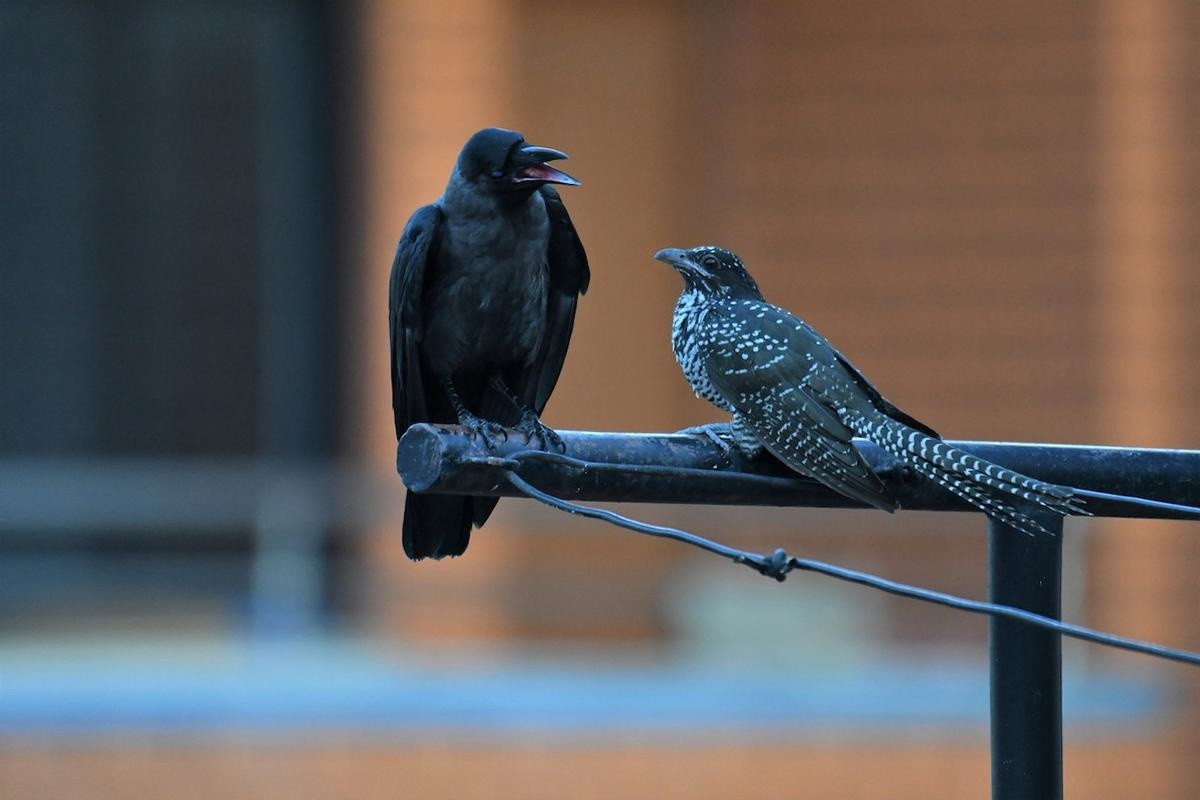crow: (366, 122, 602, 579)
